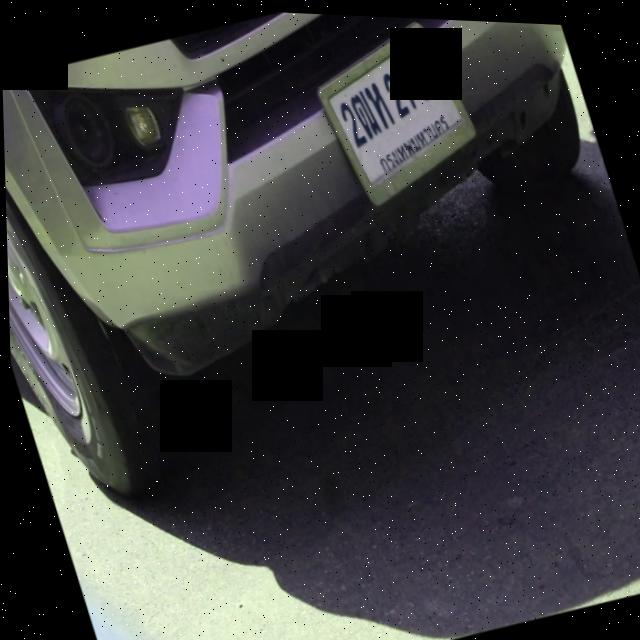text: (329, 34, 461, 180)
